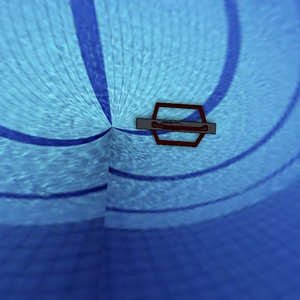submarine: (128, 93, 228, 171)
